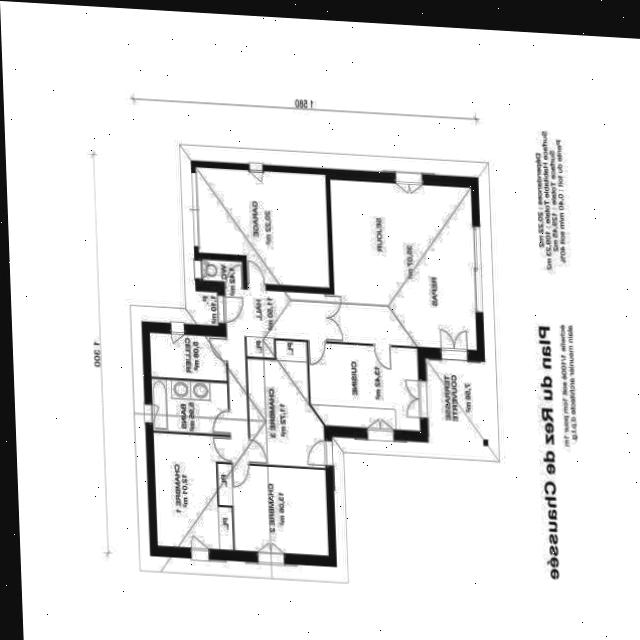room: (323, 178, 484, 349), (225, 284, 330, 464), (189, 166, 336, 287), (212, 463, 334, 555), (303, 341, 426, 430), (246, 338, 325, 470), (153, 429, 234, 552), (149, 378, 232, 434), (147, 332, 229, 380), (197, 258, 245, 287)
